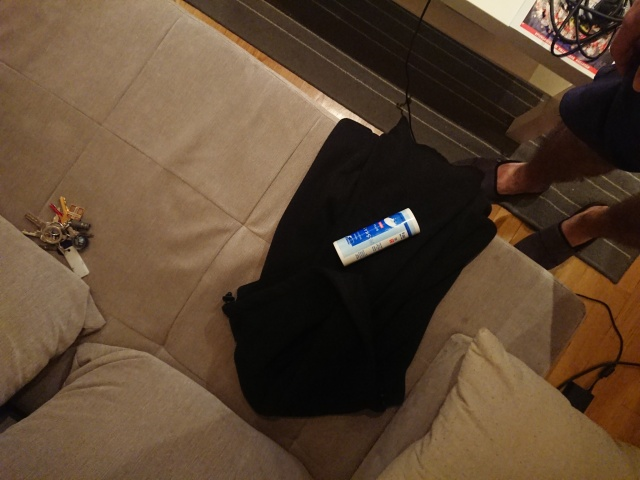Solana Pag Fine Sea Salt 250g: (329, 205, 423, 268)
